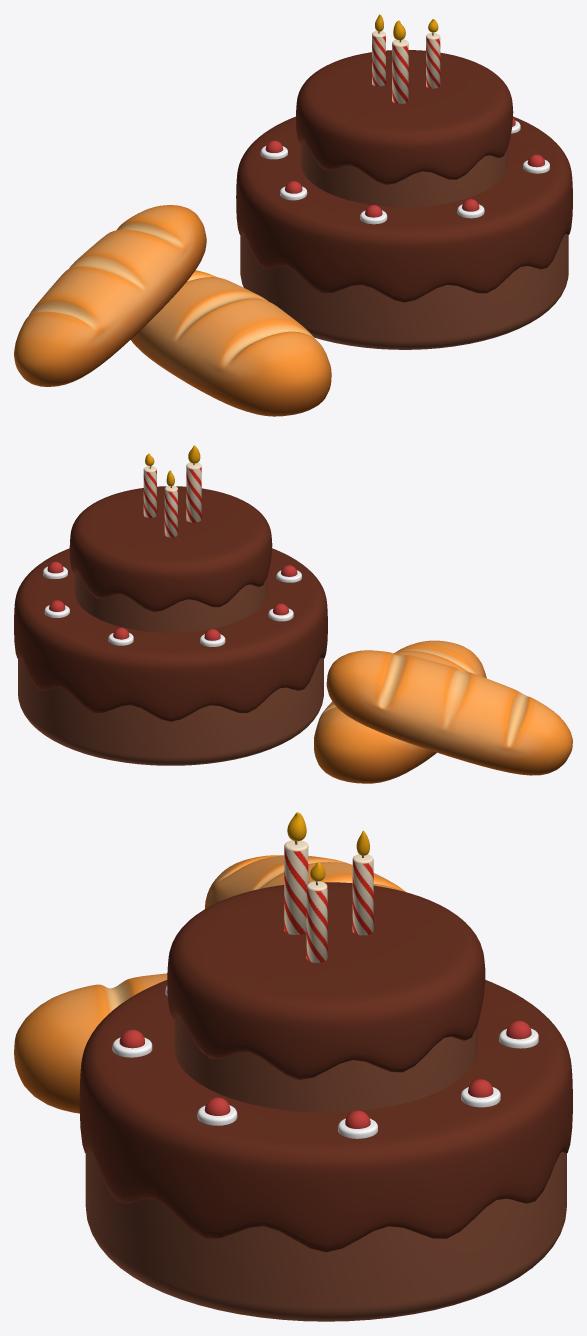
Rendered from Cake and Bread.fbx.
The picture shows the model from 3 angles, top to bottom: view 1: azimuth 30°, elevation 25°; view 2: azimuth 150°, elevation 25°; view 3: azimuth 270°, elevation 25°; orthographic projection. The views are drawn at different scales.
Visible parts, largest first — view 1: Cube.004; view 2: Cube.004; view 3: Cube.004.
Boxes of the visible parts, x1,y1,x2,y2 form: Cube.004: [14, 14, 572, 416]; Cube.004: [14, 445, 572, 783]; Cube.004: [14, 812, 572, 1321].
Size of the model in its own units: 387 by 195 by 232.
